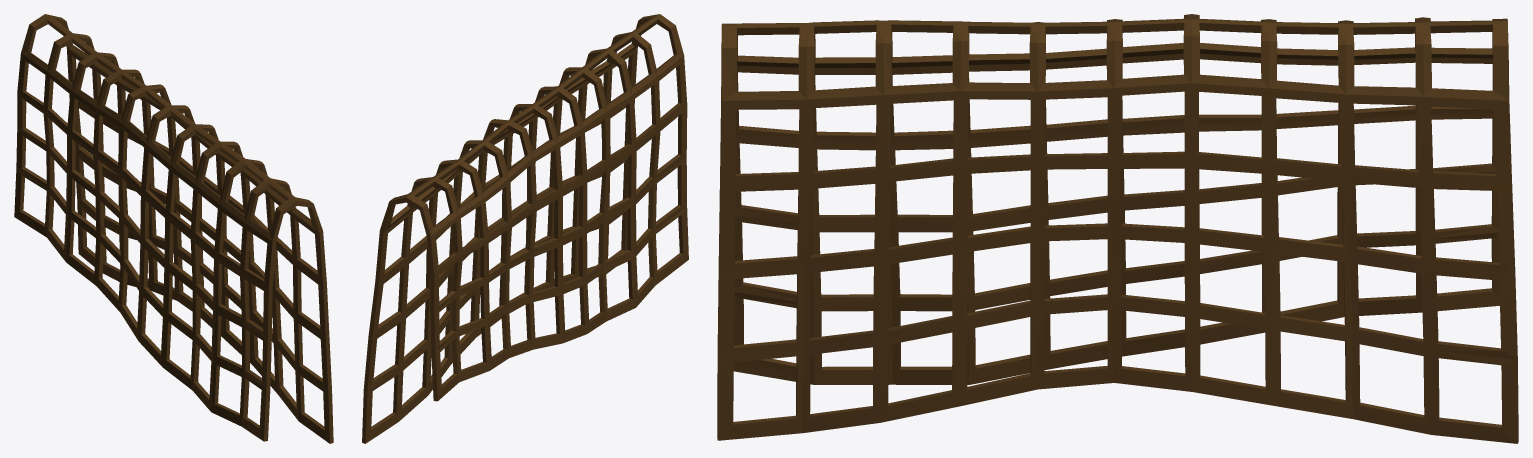
The model's file is Malla_01.glb.
3 renders of one model, left to right at view 1: azimuth 30°, elevation 25°; view 2: azimuth 150°, elevation 25°; view 3: azimuth 270°, elevation 25°, orthographic. The views are drawn at different scales.
Parts seen in each view (by area): view 1: SM_Prop_Net_01; view 2: SM_Prop_Net_01; view 3: SM_Prop_Net_01.
Boxes of the visible parts, x1,y1,x2,y2 form: SM_Prop_Net_01: [14, 14, 333, 443]; SM_Prop_Net_01: [362, 14, 688, 443]; SM_Prop_Net_01: [717, 14, 1518, 443].
Size of the model in its own units: 0.3471 by 1.17 by 2.15.
1 material, 1 textured.
